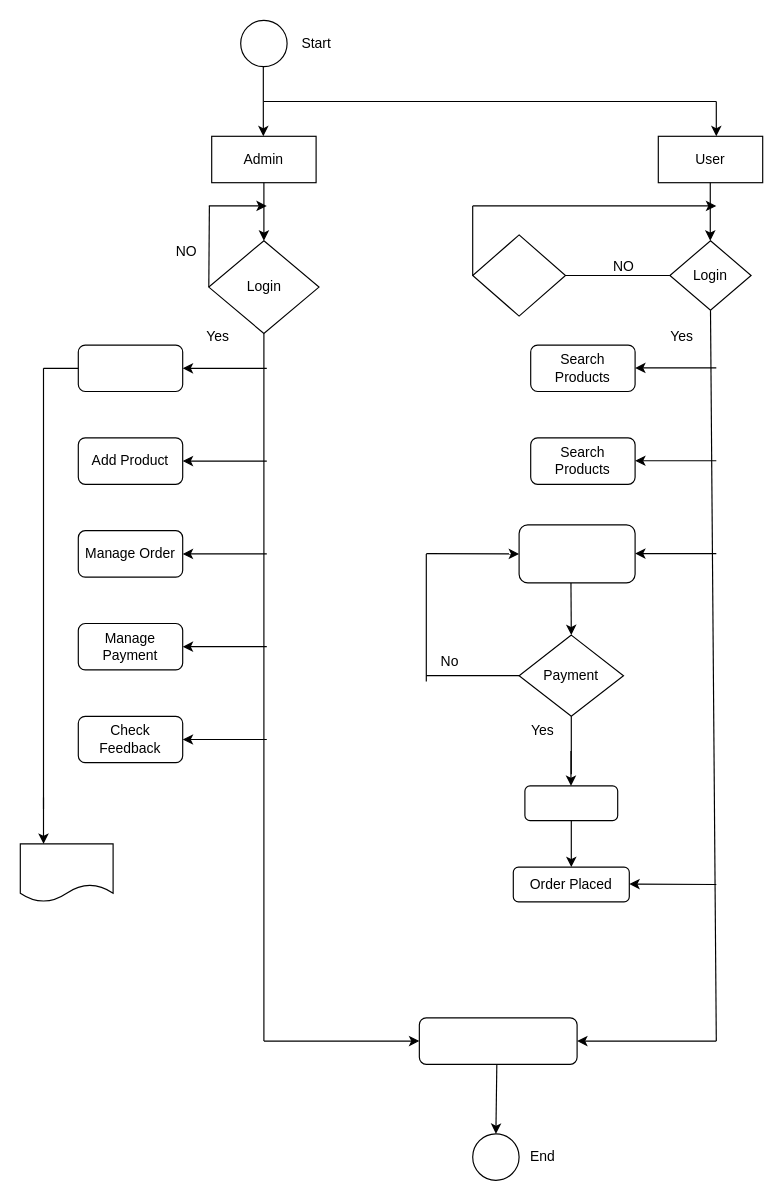
Image size: 783x1201. Some labels were removed from this diagram. Each missing label, with the box of its shape:
Add Category: (77, 344, 183, 392)
Buy Product and Add to Cart: (518, 524, 635, 583)
Case On Delivery: (524, 785, 618, 821)
Log Out: (418, 1017, 577, 1064)
Register: (472, 234, 566, 316)
Reports: (19, 843, 113, 902)
